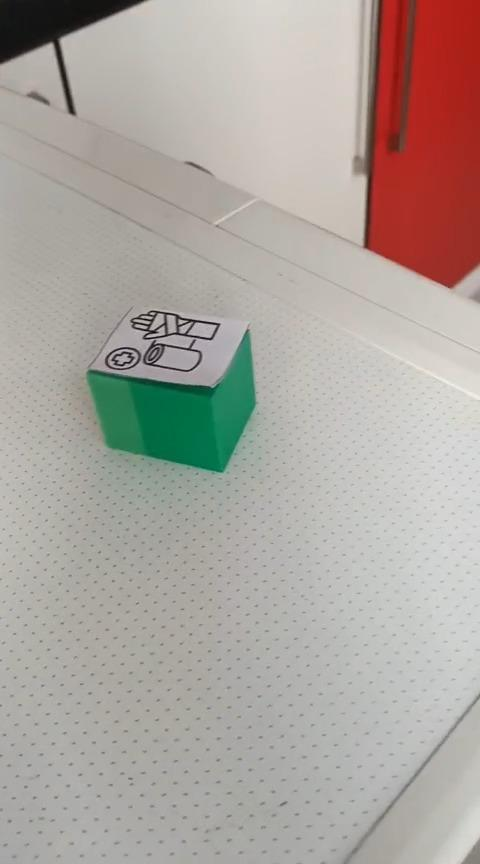Bandages: (87, 306, 257, 472)
